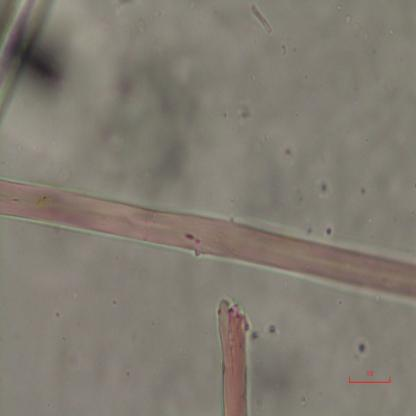Background material: (87, 15, 225, 198), (249, 345, 302, 415), (250, 3, 272, 36), (233, 102, 256, 122), (354, 335, 370, 359), (314, 174, 330, 195), (264, 319, 282, 336), (247, 326, 264, 344), (320, 222, 333, 239), (120, 363, 132, 381), (297, 389, 308, 407), (279, 43, 289, 58), (360, 181, 368, 195), (283, 145, 291, 157), (53, 309, 62, 319), (307, 223, 313, 235), (336, 298, 343, 307), (112, 297, 118, 306)
Microfibre: (0, 171, 416, 308), (0, 0, 49, 120), (217, 294, 255, 416)
